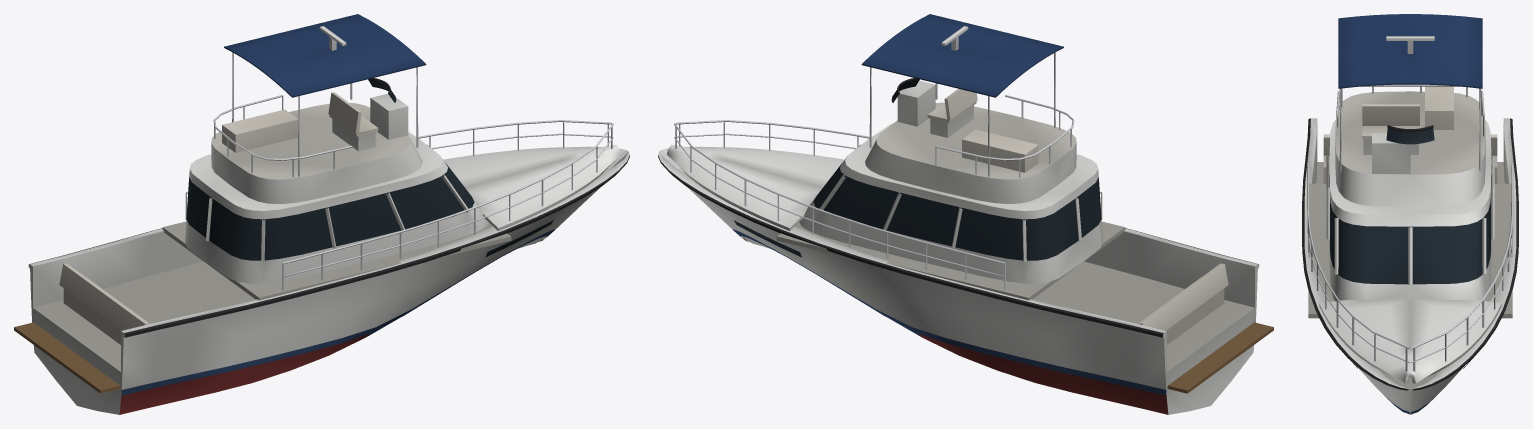
Rendered from yacht.glb.
3 views of the same model, side by side, from view 1: azimuth 30°, elevation 25°; view 2: azimuth 150°, elevation 25°; view 3: azimuth 270°, elevation 25° (orthographic). The views are drawn at different scales.
Visible parts, largest first — view 1: lod0; view 2: lod0; view 3: lod0.
Part boxes in pixels (x1=…): lod0: x1=14, y1=14, x2=629, y2=414; lod0: x1=658, y1=14, x2=1273, y2=414; lod0: x1=1302, y1=14, x2=1518, y2=414.
Size of what is drawn, in the model's own units: 14.5 by 7.48 by 4.5.
